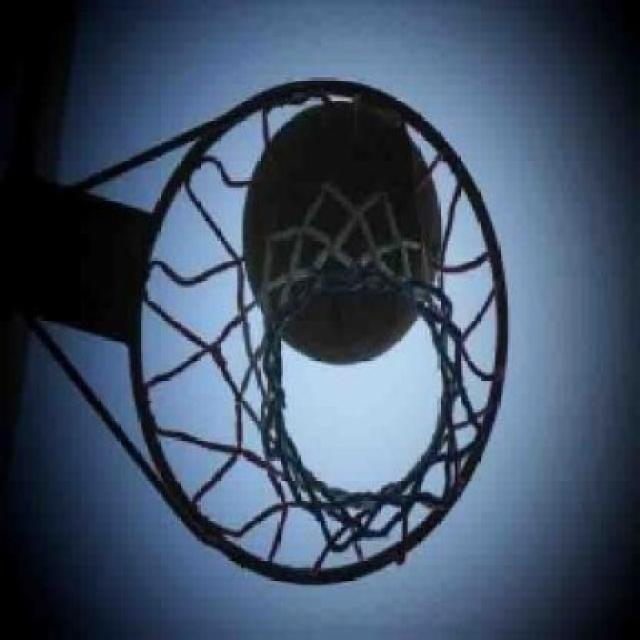basketball: (244, 94, 441, 370)
